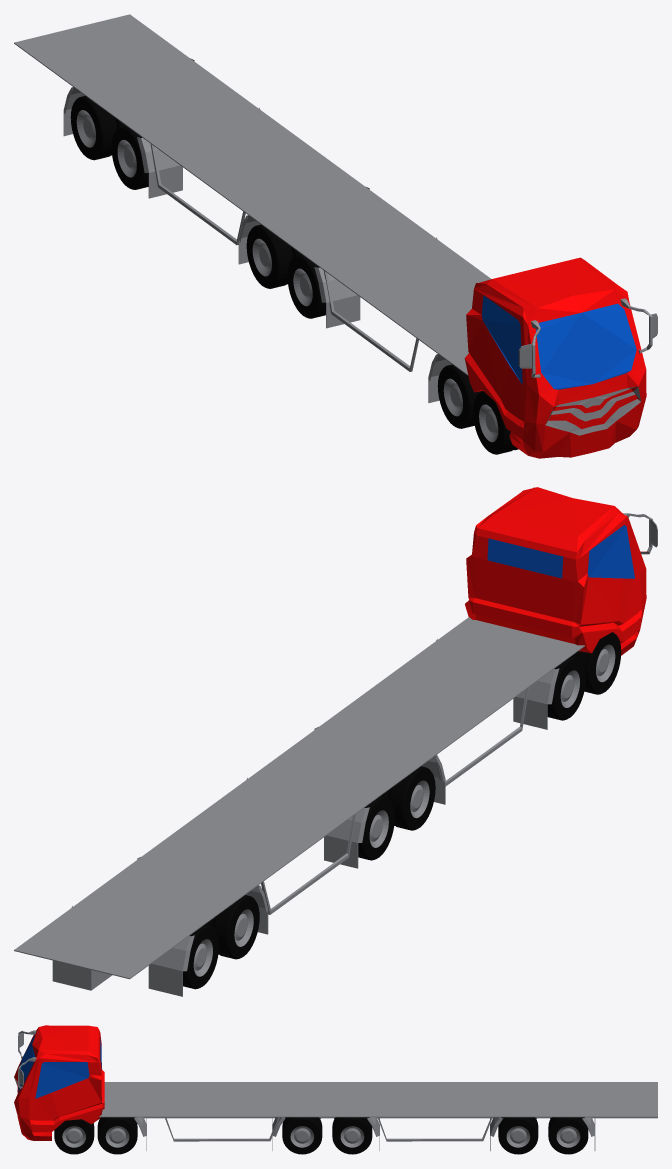
File: truck.obj
3 renders of one model, top to bottom at view 1: azimuth 30°, elevation 25°; view 2: azimuth 150°, elevation 25°; view 3: azimuth 270°, elevation 25°, orthographic. The views are drawn at different scales.
Visible parts, largest first — view 1: Plane.002_Plane.004, Plane, Circle.003_Circle.006, Plane.001_Plane.005, Cube.004_Cube.005; view 2: Plane.002_Plane.004, Plane, Circle.003_Circle.006, Cube.004_Cube.005, Plane.001_Plane.005; view 3: Plane.002_Plane.004, Circle.003_Circle.006, Plane, Plane.001_Plane.005, Cube.004_Cube.005.
Boxes of the visible parts, x1=… form: Plane.002_Plane.004: x1=14, y1=14, x2=491, y2=375; Plane: x1=464, y1=257, x2=657, y2=458; Circle.003_Circle.006: x1=70, y1=96, x2=518, y2=454; Plane.001_Plane.005: x1=481, y1=295, x2=636, y2=389; Cube.004_Cube.005: x1=63, y1=58, x2=451, y2=402; Plane.002_Plane.004: x1=14, y1=617, x2=584, y2=990; Plane: x1=465, y1=487, x2=657, y2=655; Circle.003_Circle.006: x1=183, y1=632, x2=621, y2=989; Cube.004_Cube.005: x1=71, y1=639, x2=559, y2=996; Plane.001_Plane.005: x1=487, y1=525, x2=634, y2=578; Plane.002_Plane.004: x1=99, y1=1082, x2=657, y2=1141; Circle.003_Circle.006: x1=54, y1=1117, x2=588, y2=1154; Plane: x1=14, y1=1025, x2=104, y2=1140; Plane.001_Plane.005: x1=18, y1=1035, x2=101, y2=1098; Cube.004_Cube.005: x1=134, y1=1117, x2=595, y2=1151.
Size of the model in its own units: 5.83 by 6.51 by 38.23.
